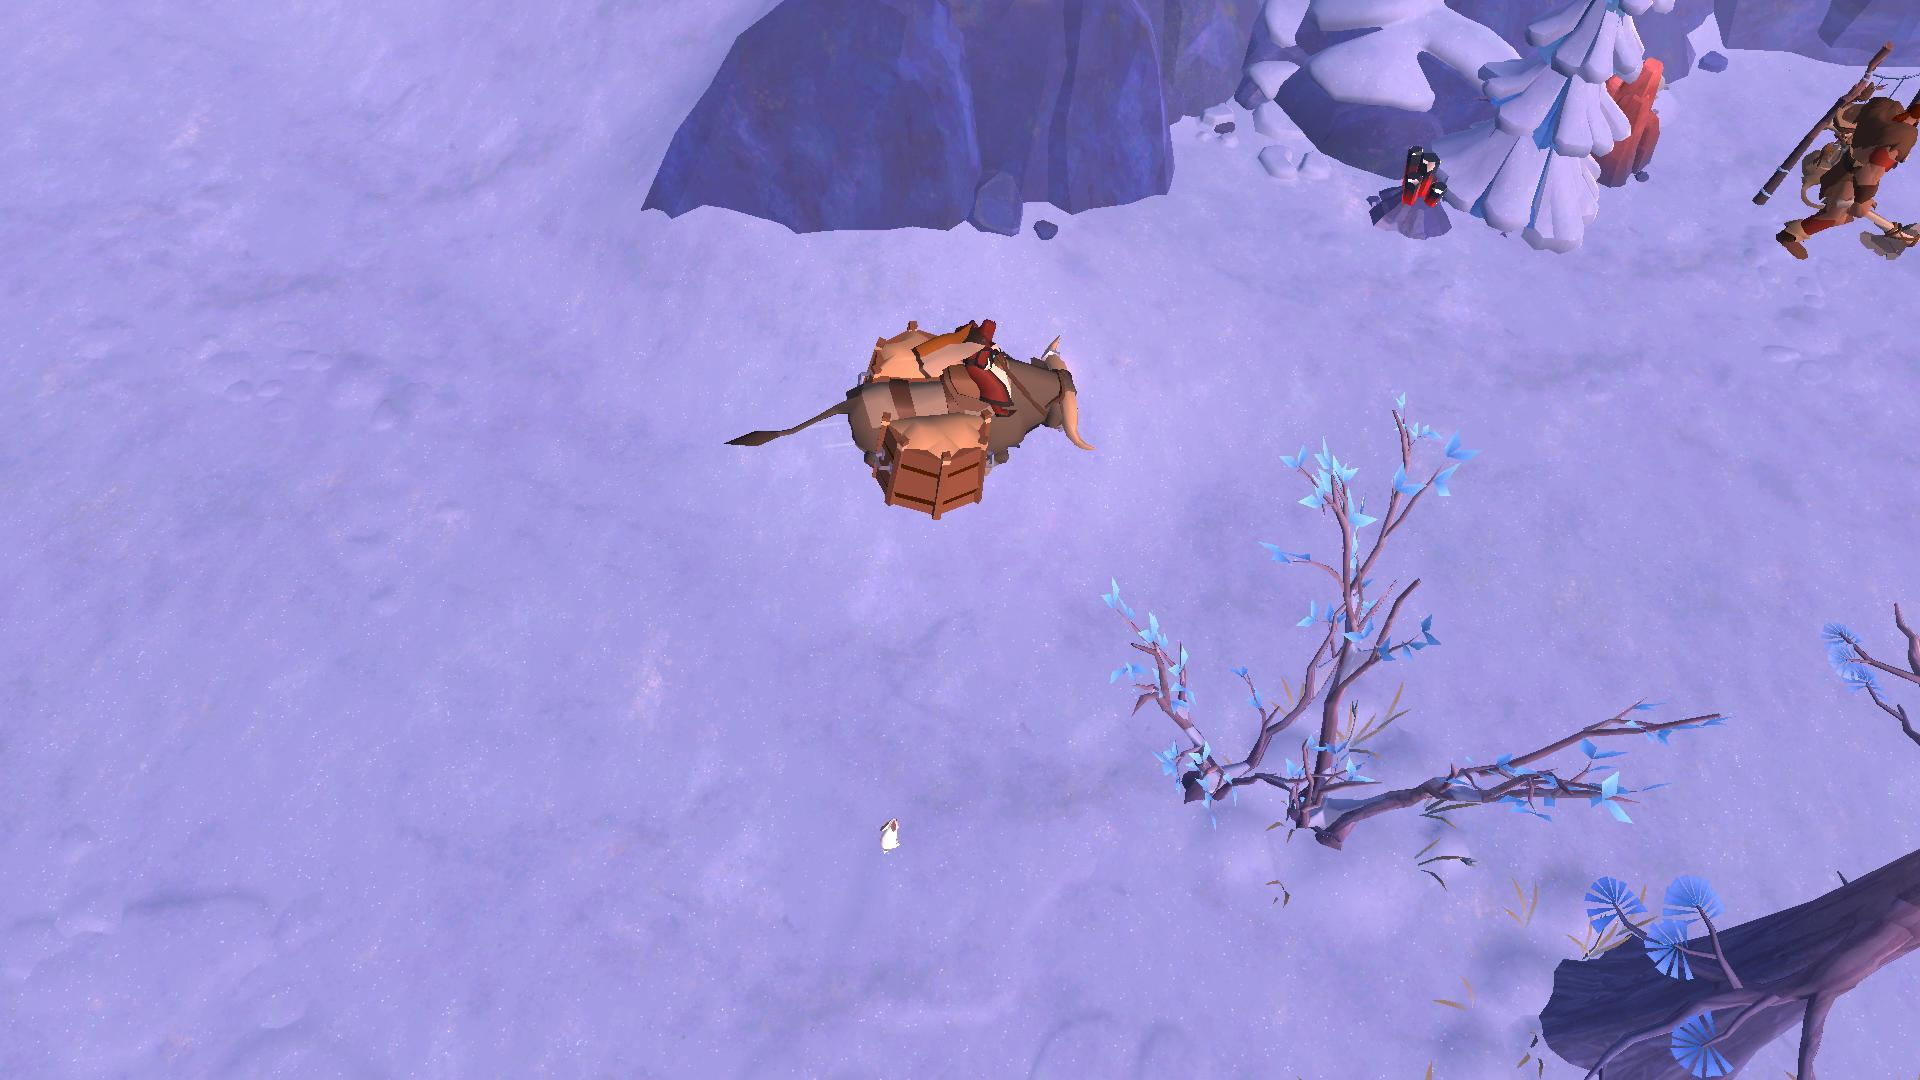ore_t5: (1386, 138, 1452, 210)
rock_t5: (1563, 54, 1663, 187)
